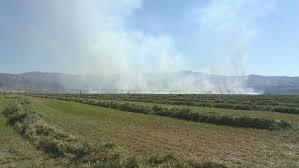yanwu: (15, 0, 262, 95)
